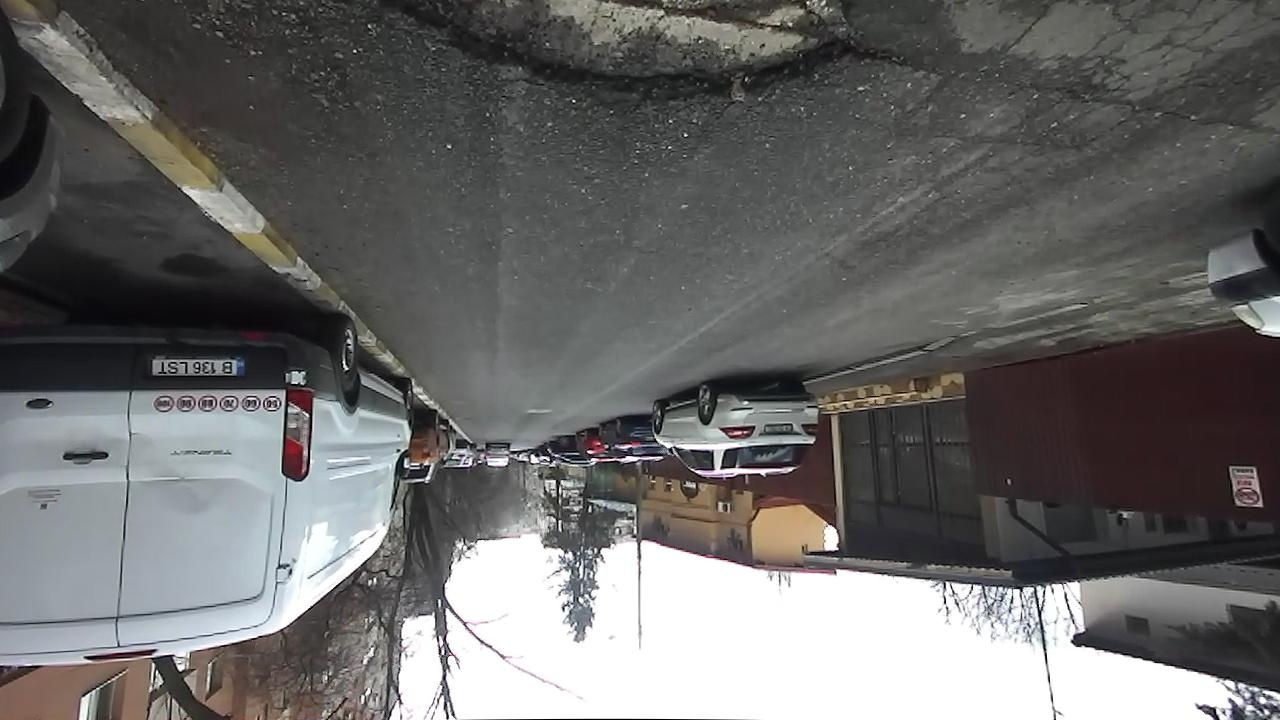pothole: (356, 0, 897, 120)
